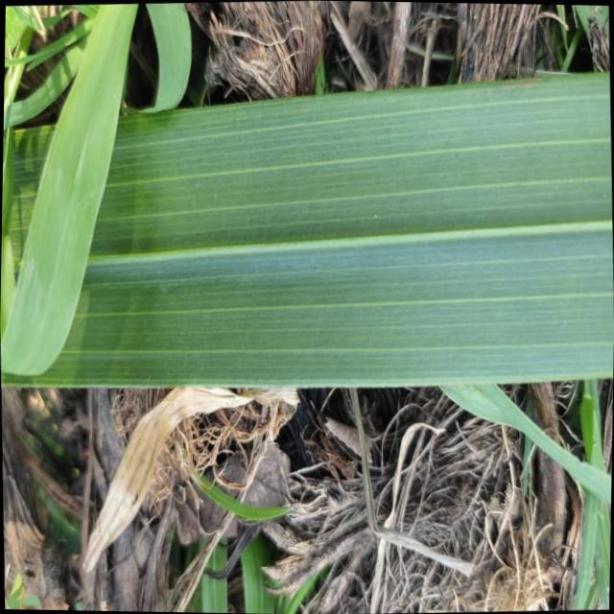Healthy: (3, 76, 614, 384)
